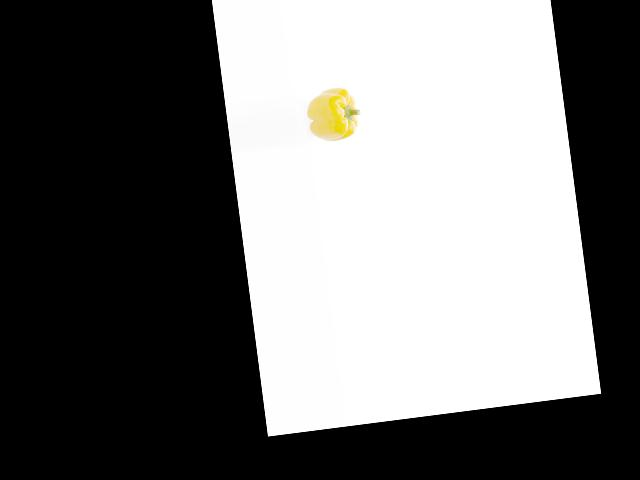bell_pepper: (302, 81, 365, 143)
